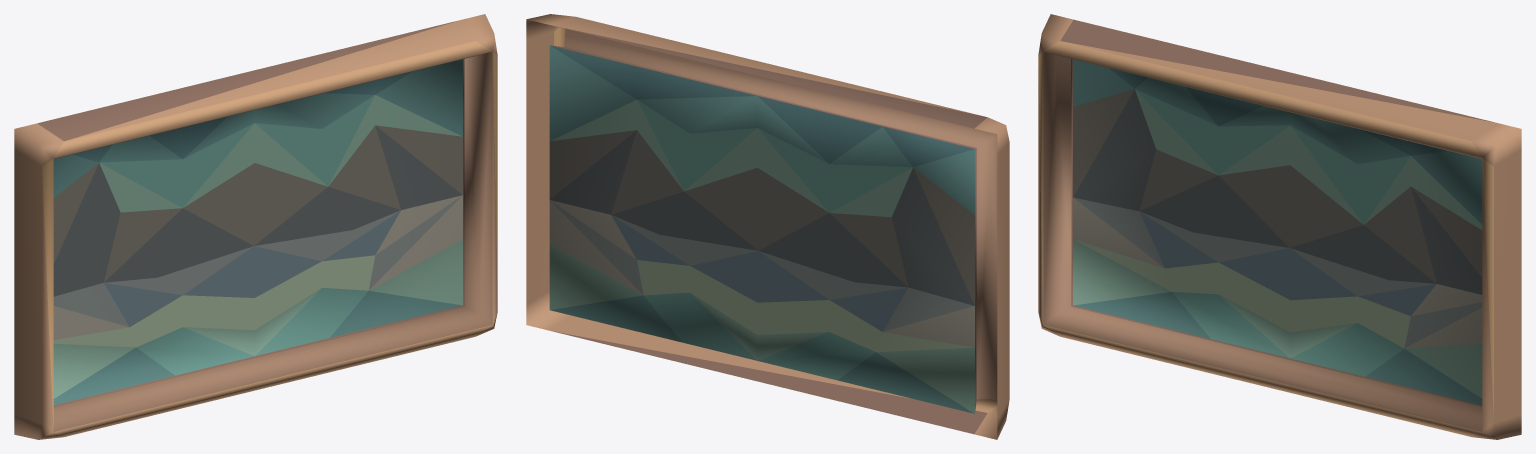
The model's file is picture_frame_big_mountains.fbx.
The picture shows the model from 3 angles, left to right: view 1: azimuth 30°, elevation 25°; view 2: azimuth 150°, elevation 25°; view 3: azimuth 330°, elevation 25°; orthographic projection.
Parts seen in each view (by area): view 1: picture_frame; view 2: picture_frame; view 3: picture_frame.
Part boxes in pixels (left/top/right/bottom): picture_frame: left=14, top=14, right=497, bottom=439; picture_frame: left=526, top=14, right=1009, bottom=439; picture_frame: left=1038, top=14, right=1521, bottom=439.
Bounding box in the file's own units: 147 × 91.06 × 12.63.
